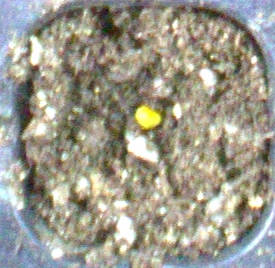chilli seed: (135, 105, 161, 129)
